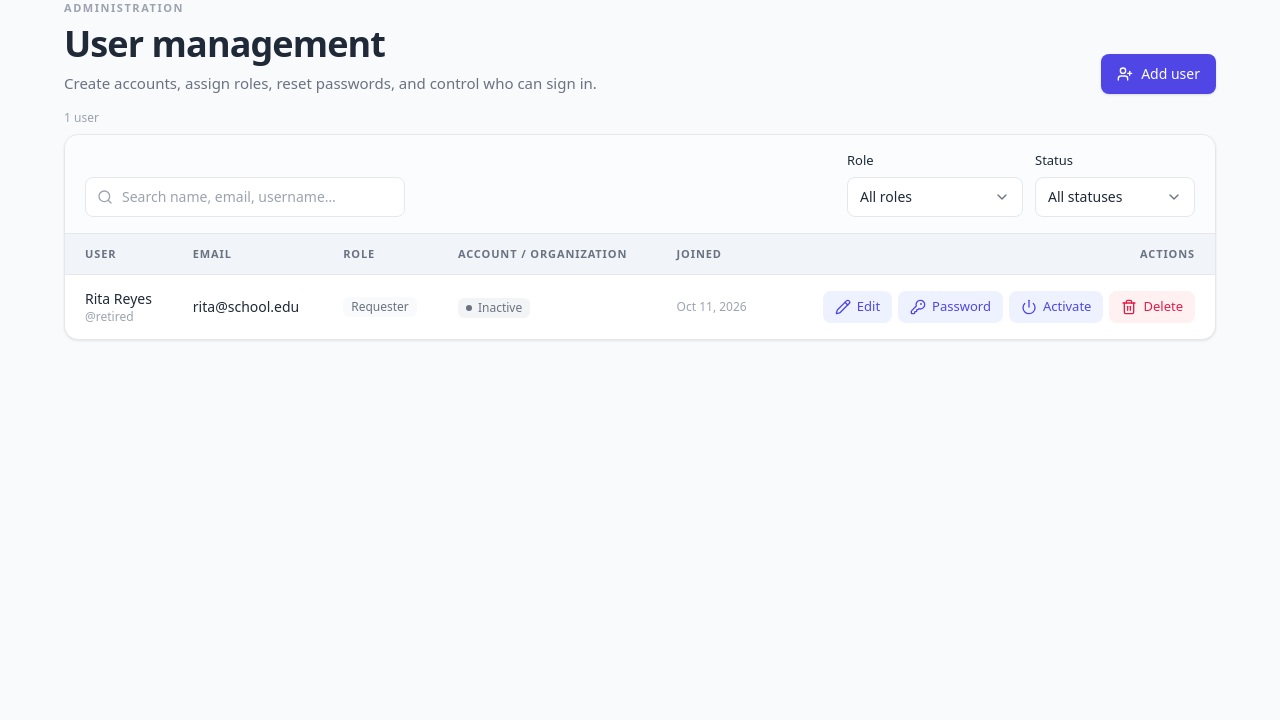
Test case: UserManagementPage › confirms before reactivating an inactive account
expect the text "Rita Reyes" is shown: met, box [85,289,161,309]
Click the button with aria-label "Activate Rita Reyes" at (1056, 307), box [1009,291,1103,323]
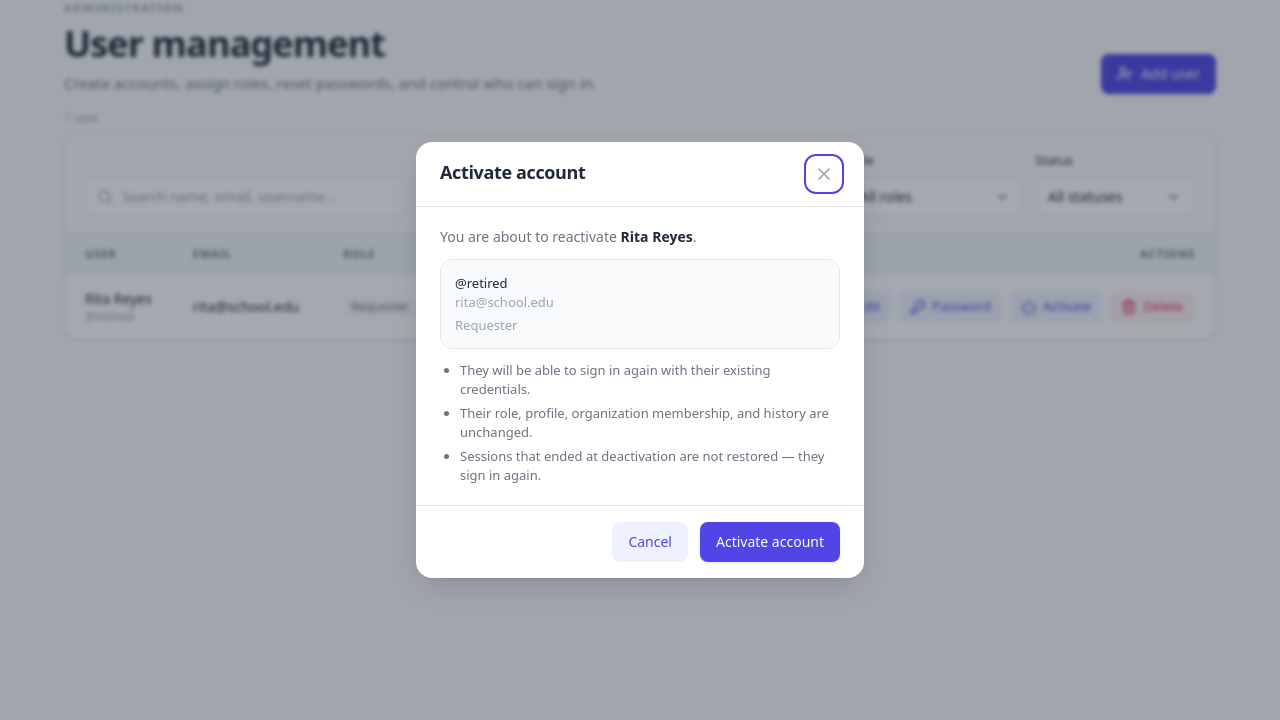
expect the list item "They will be able to sign in again with their existing credentials" is shown: met, box [460,361,771,398]
Click the button "Activate account" at (770, 542), box [700,522,840,562]
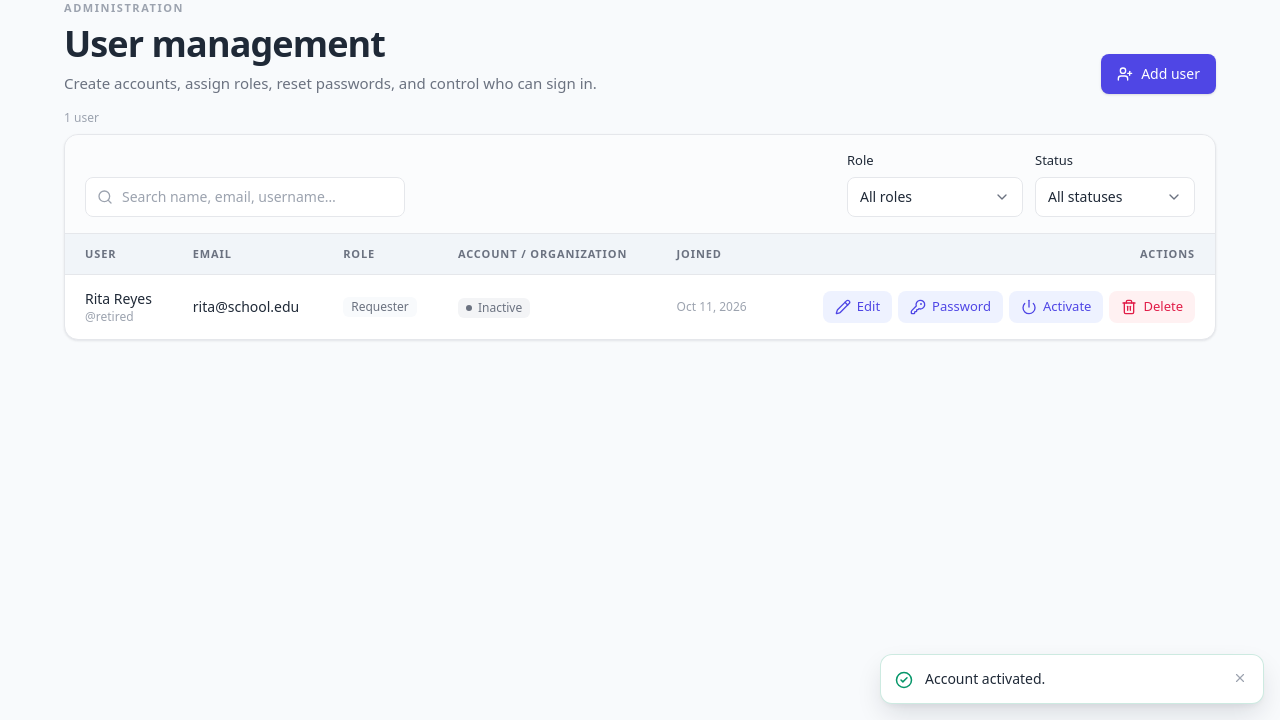
expect the text "Account activated." is shown: met, box [925,669,1045,688]
